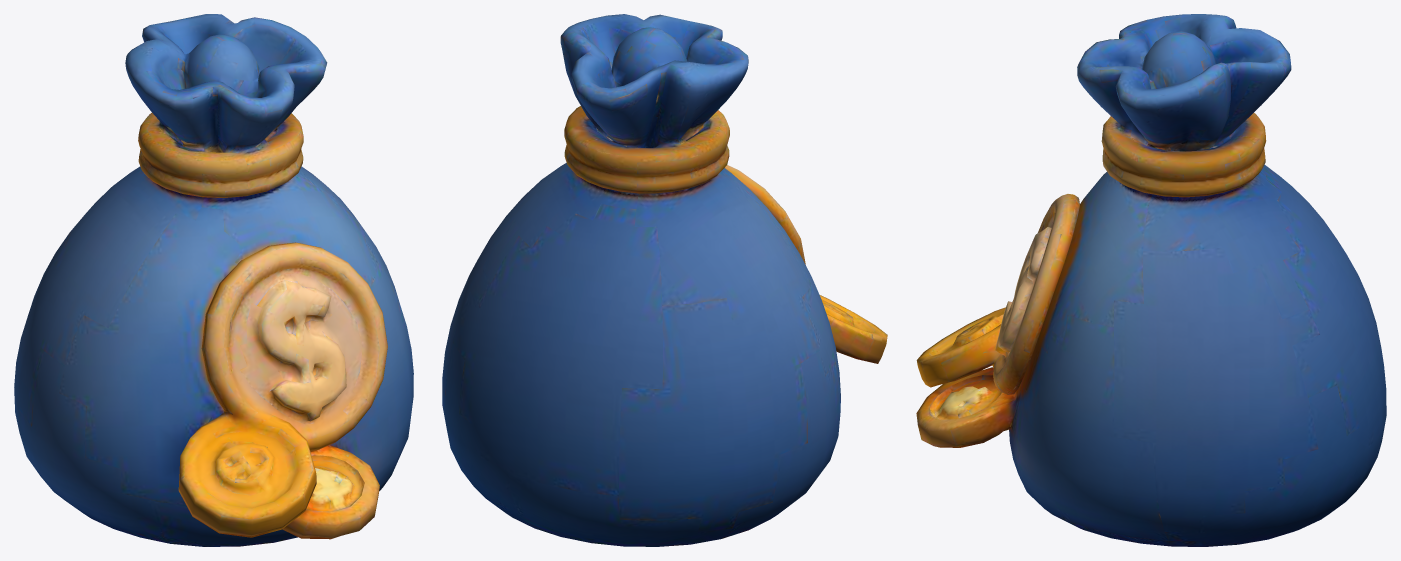
The model's file is BagOfMoney.fbx.
3 renders of one model, left to right at view 1: azimuth 30°, elevation 25°; view 2: azimuth 150°, elevation 25°; view 3: azimuth 270°, elevation 25°, orthographic.
Parts seen in each view (by area): view 1: tripo_node_4ee53d73; view 2: tripo_node_4ee53d73; view 3: tripo_node_4ee53d73.
Boxes of the visible parts, left/top/right/bottom form: tripo_node_4ee53d73: left=14, top=14, right=413, bottom=546; tripo_node_4ee53d73: left=442, top=14, right=887, bottom=546; tripo_node_4ee53d73: left=916, top=14, right=1386, bottom=546.
Size of the model in its own units: 81.13 by 99.94 by 94.67.
1 material, 1 textured.
